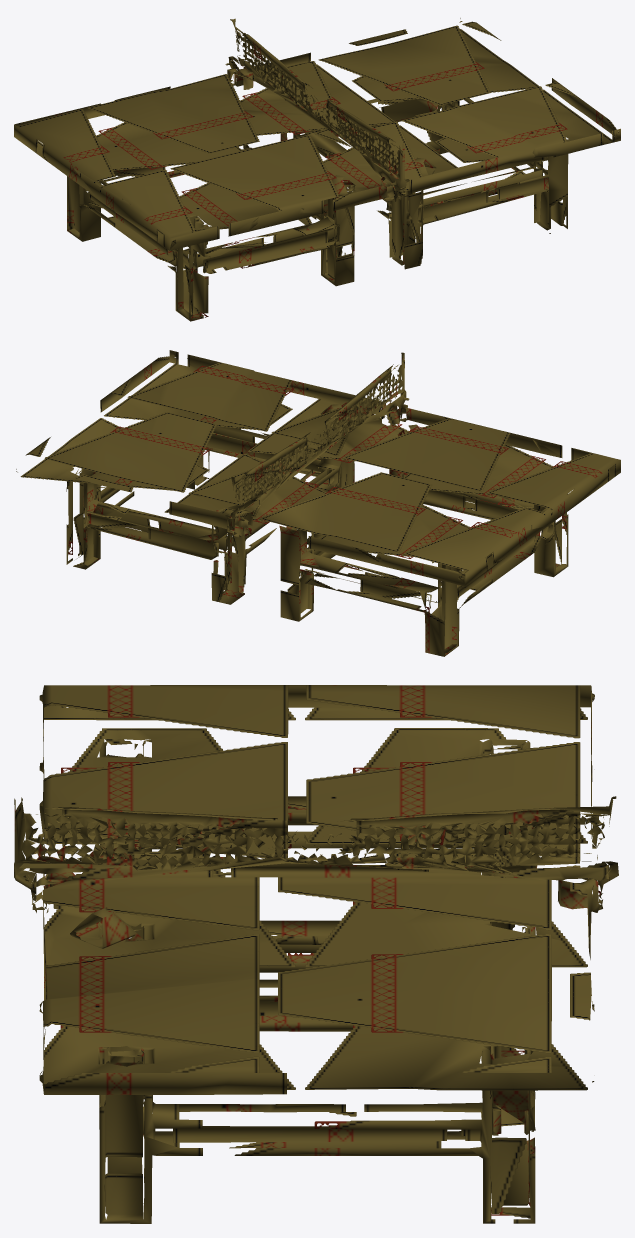
File: table.obj
The picture shows the model from 3 angles, top to bottom: view 1: azimuth 30°, elevation 25°; view 2: azimuth 150°, elevation 25°; view 3: azimuth 270°, elevation 25°; orthographic projection. The views are drawn at different scales.
Visible parts, largest first — view 1: Meshy_AI_Abandoned_Ping_Pong_T_0607230309_texture; view 2: Meshy_AI_Abandoned_Ping_Pong_T_0607230309_texture; view 3: Meshy_AI_Abandoned_Ping_Pong_T_0607230309_texture.
Boxes of the visible parts, x1,y1,x2,y2 form: Meshy_AI_Abandoned_Ping_Pong_T_0607230309_texture: [14, 18, 620, 321]; Meshy_AI_Abandoned_Ping_Pong_T_0607230309_texture: [16, 350, 620, 656]; Meshy_AI_Abandoned_Ping_Pong_T_0607230309_texture: [14, 685, 618, 1223].
Bounding box in the file's own units: 1.91 × 0.6071 × 1.26.
